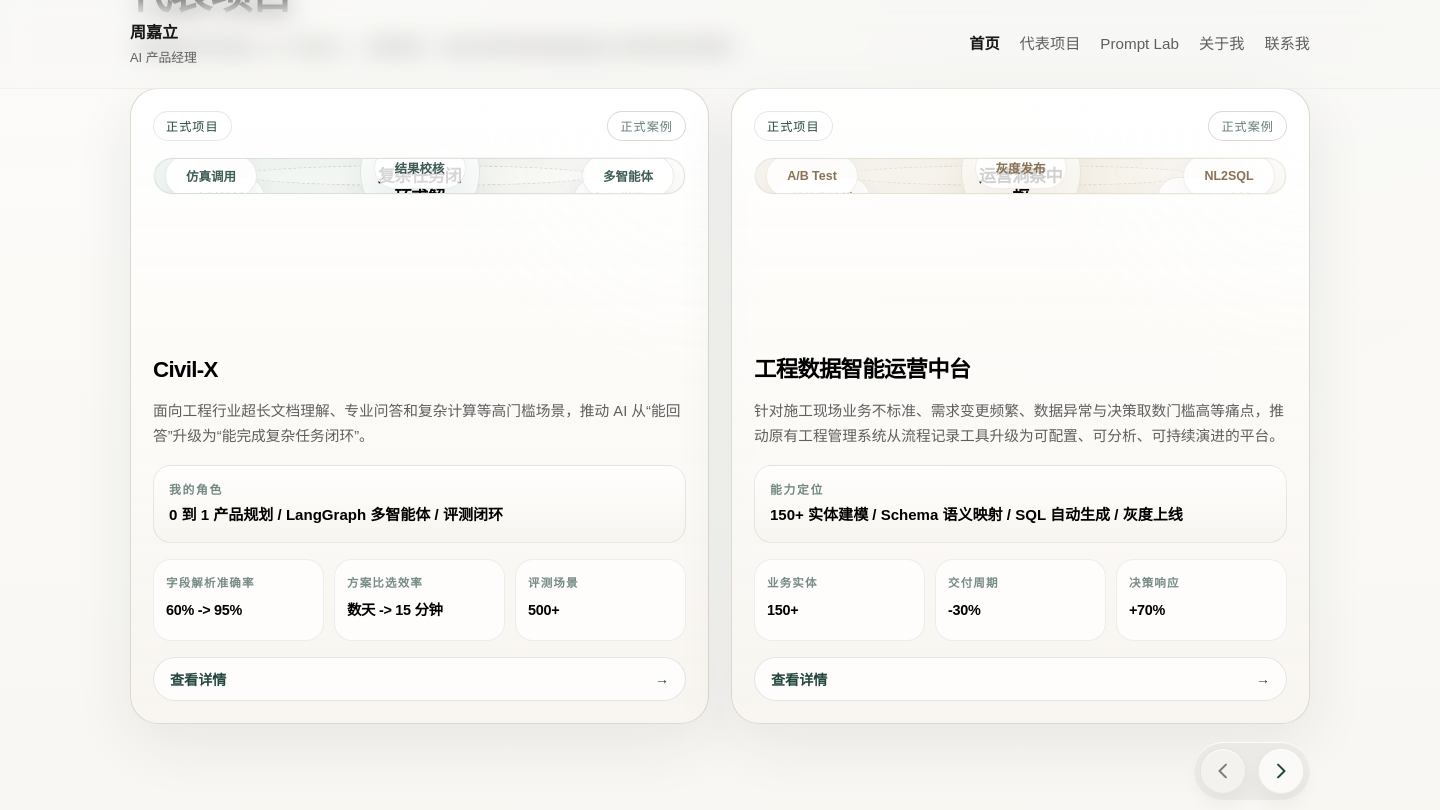
it: opens a simplified engineering data ops modal
(page scrolled)
Click the button with aria-label "代表项目：工程数据智能运营中台": (1020, 406) x1=731 y1=88 x2=1310 y2=724
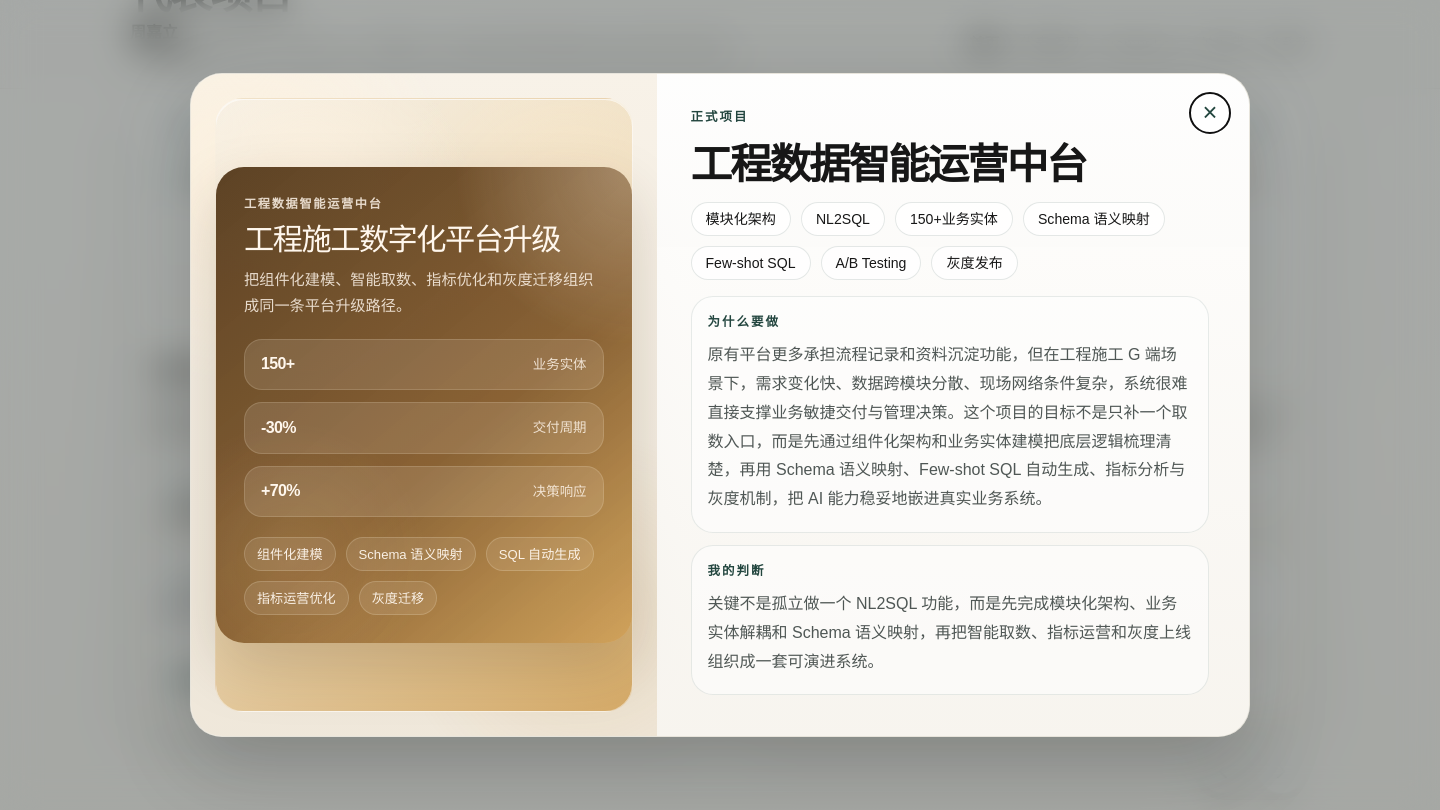
expect the dialog "工程数据智能运营中台" is shown: met
expect the dialog "工程数据智能运营中台" shows "为什么要做": met, box x1=708 y1=315 x2=780 y2=329
